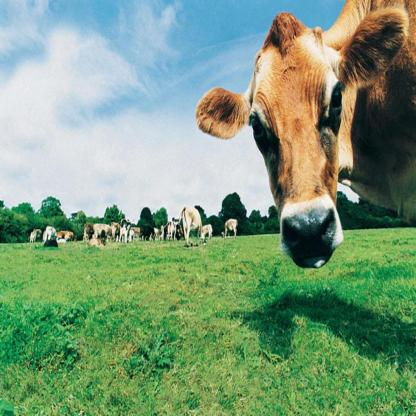cow: (198, 0, 416, 267), (182, 205, 200, 246), (93, 224, 112, 243), (221, 220, 238, 237), (120, 220, 130, 242), (140, 226, 155, 240), (168, 220, 176, 240), (56, 233, 73, 242), (202, 225, 212, 240)
